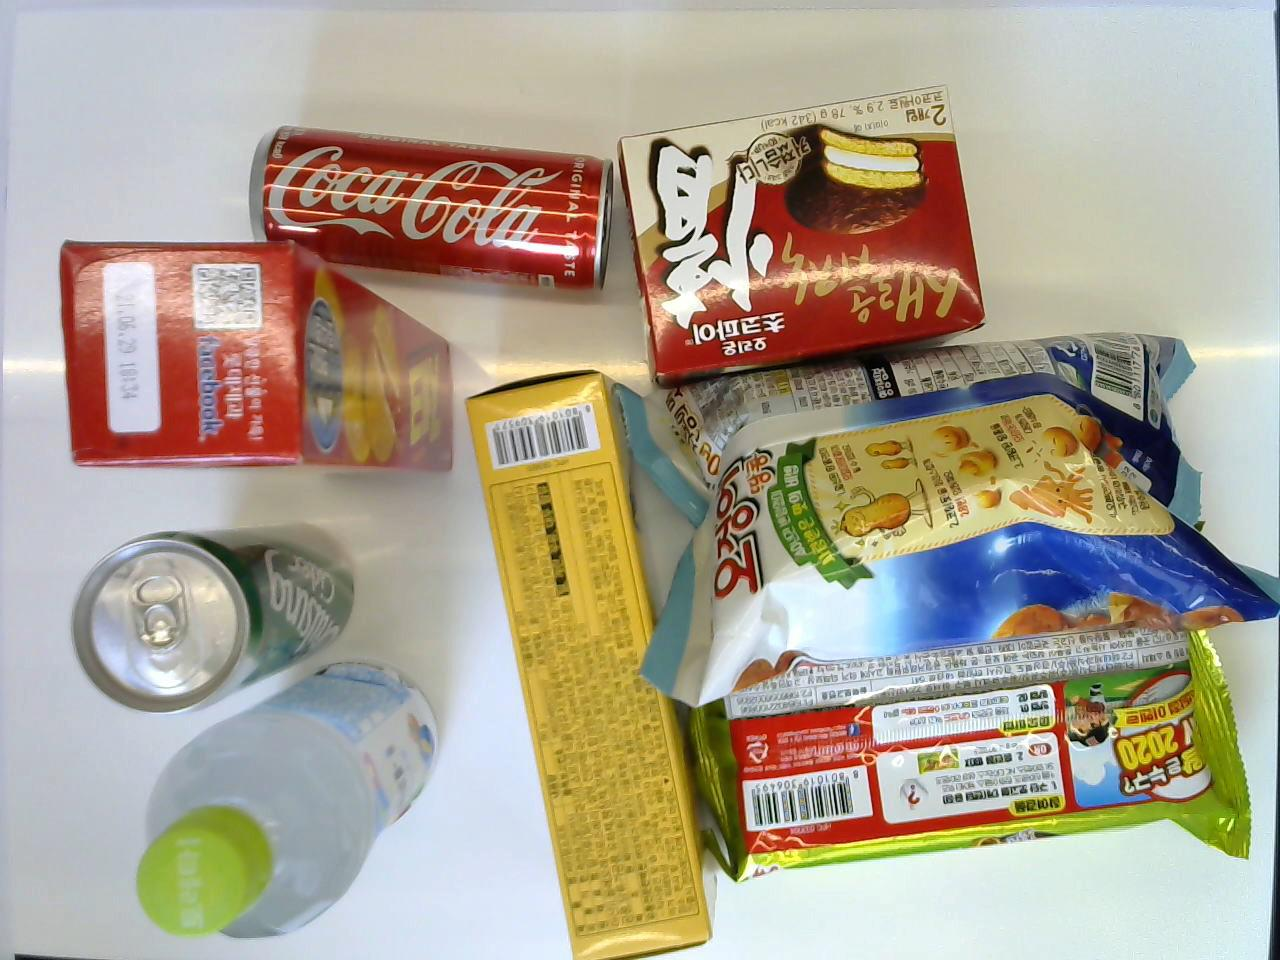buttering: (465, 369, 701, 957)
chocopie: (618, 83, 985, 388)
cidar: (65, 518, 355, 720)
coke: (243, 122, 615, 293)
homerunball: (687, 594, 1255, 888)
squid_peanut: (614, 334, 1276, 707)
toreta: (135, 657, 446, 943)
zec: (54, 240, 451, 475)
